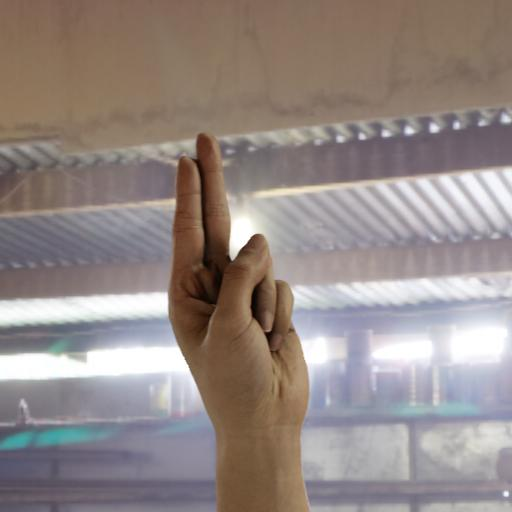U: (156, 92, 422, 512)
